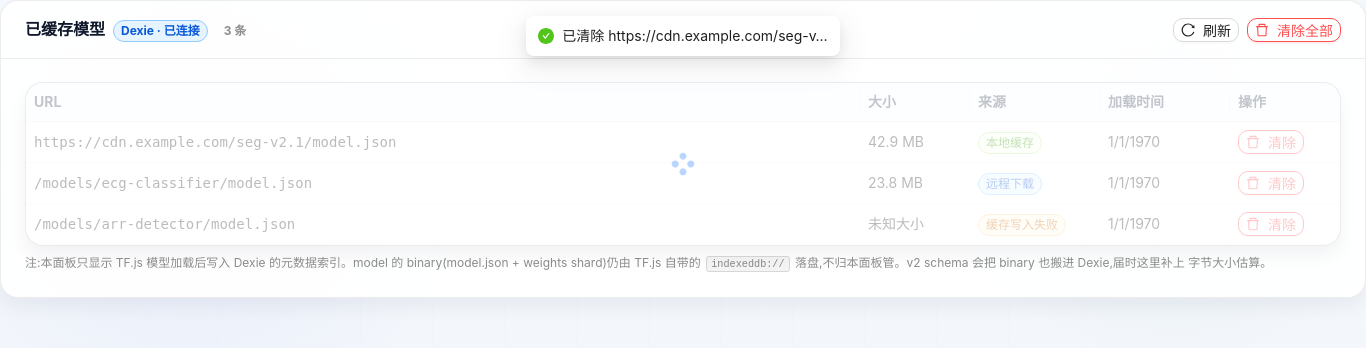
ModelCachePanel 操作 › 点击 "清除全部" → 调 clearAll 并清空列表(无独立 confirm,直接执行)
Expected: the text "已缓存模型" is shown, left=25, top=19, right=105, bottom=39
Click the button "清除全部" at (1294, 30), box left=1247, top=18, right=1341, bottom=42
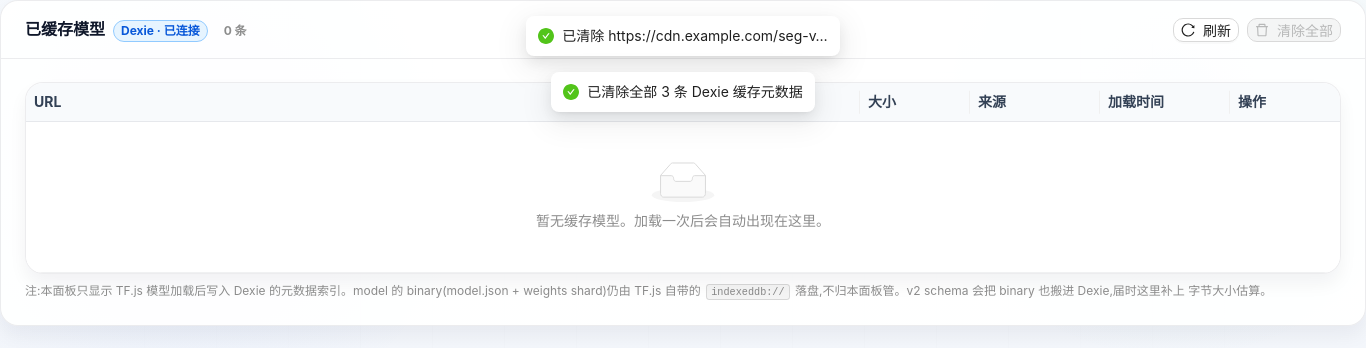
Now the text "暂无缓存模型。加载一次后会自动出现在这里。" is shown, box left=536, top=212, right=830, bottom=229
